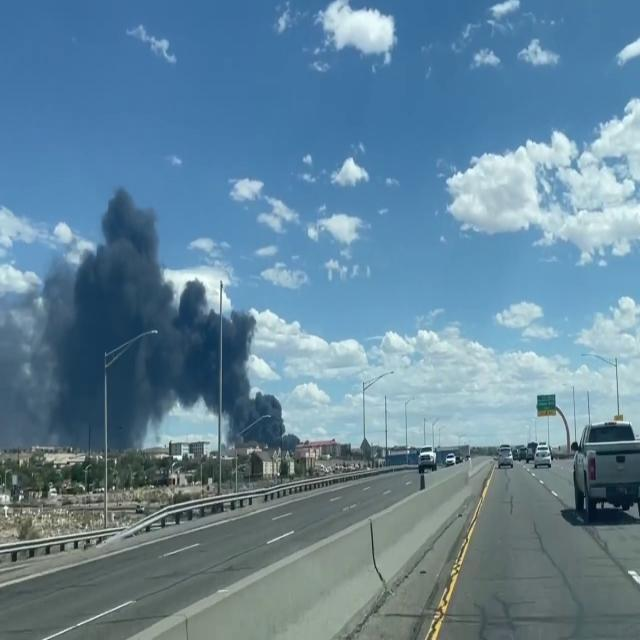Smoke: (0, 175, 286, 460)
